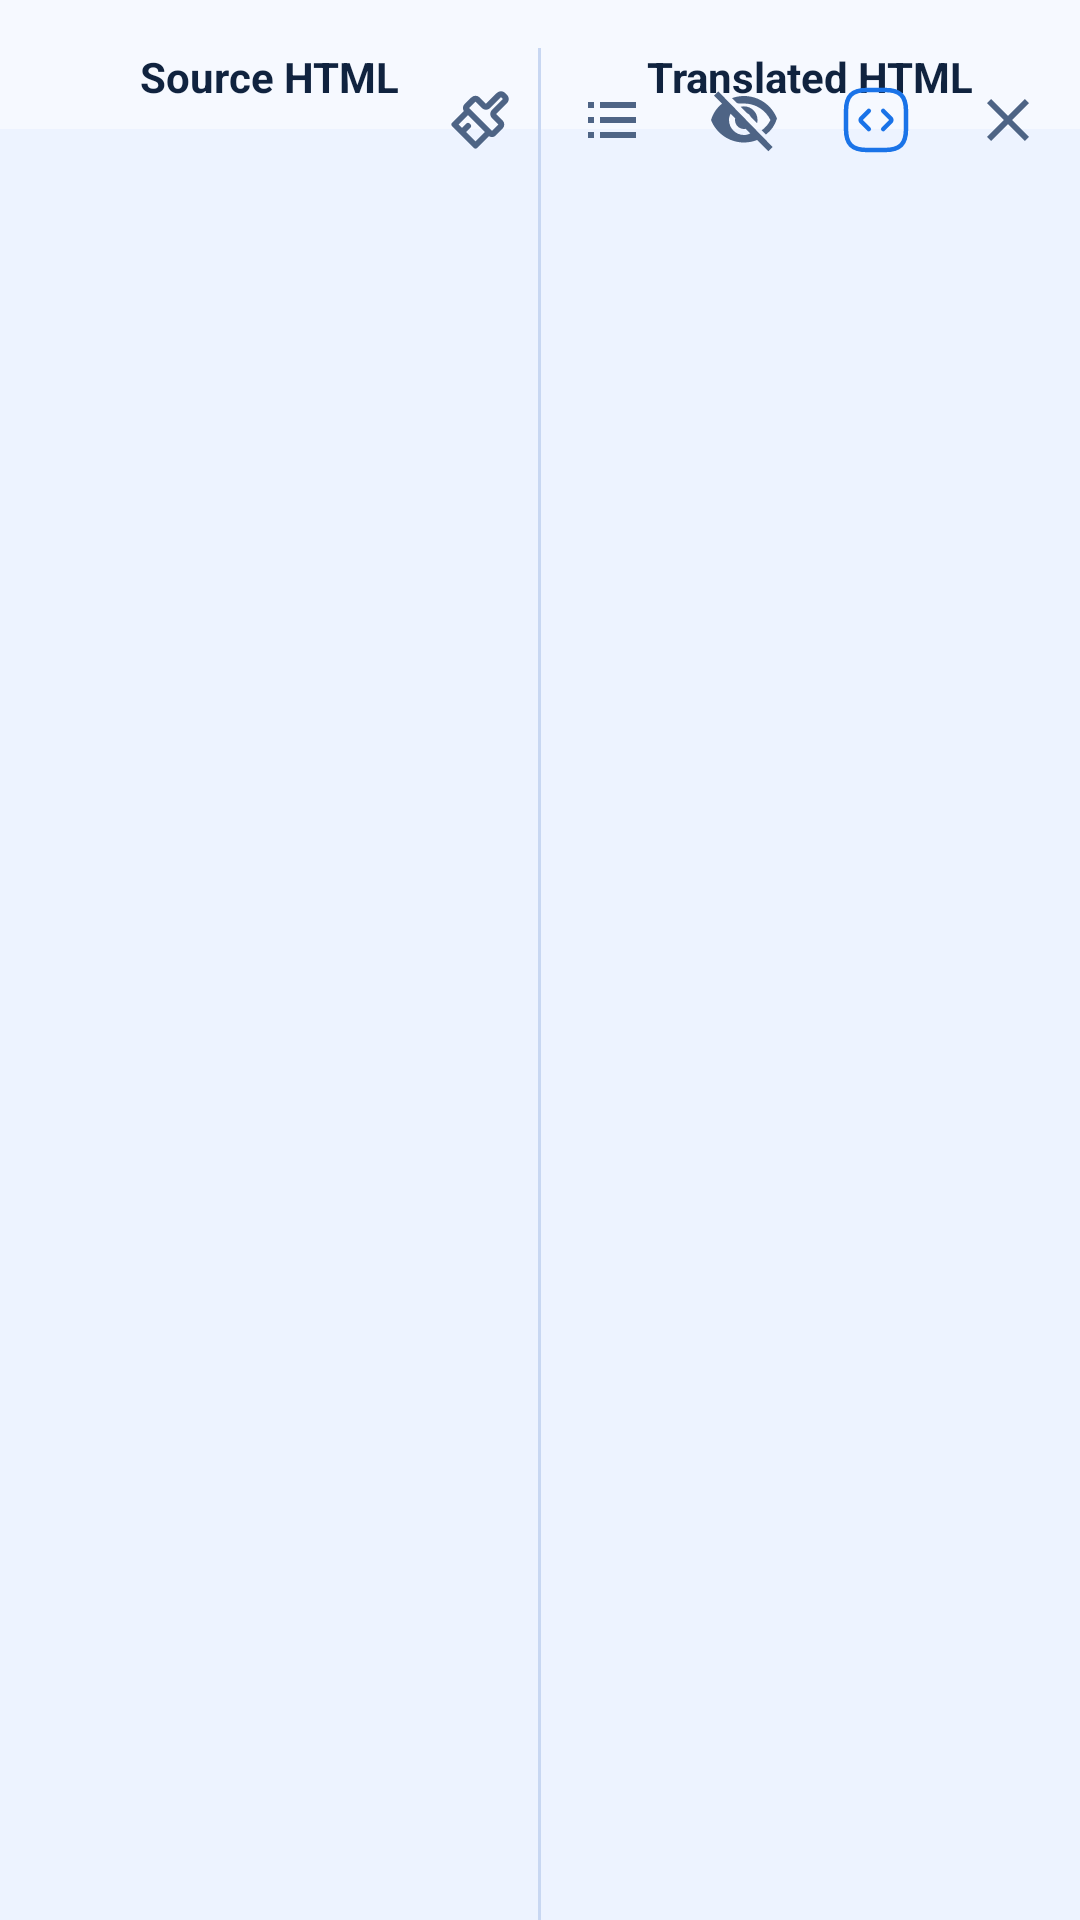

Locate icon controls on the screen. Image size 1080px×1920px, boxes as (x1, y1, x2, y2).
Normalize raw HTML lines: (451, 91, 509, 149)
